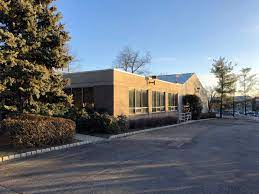Building House: (69, 63, 211, 120)
